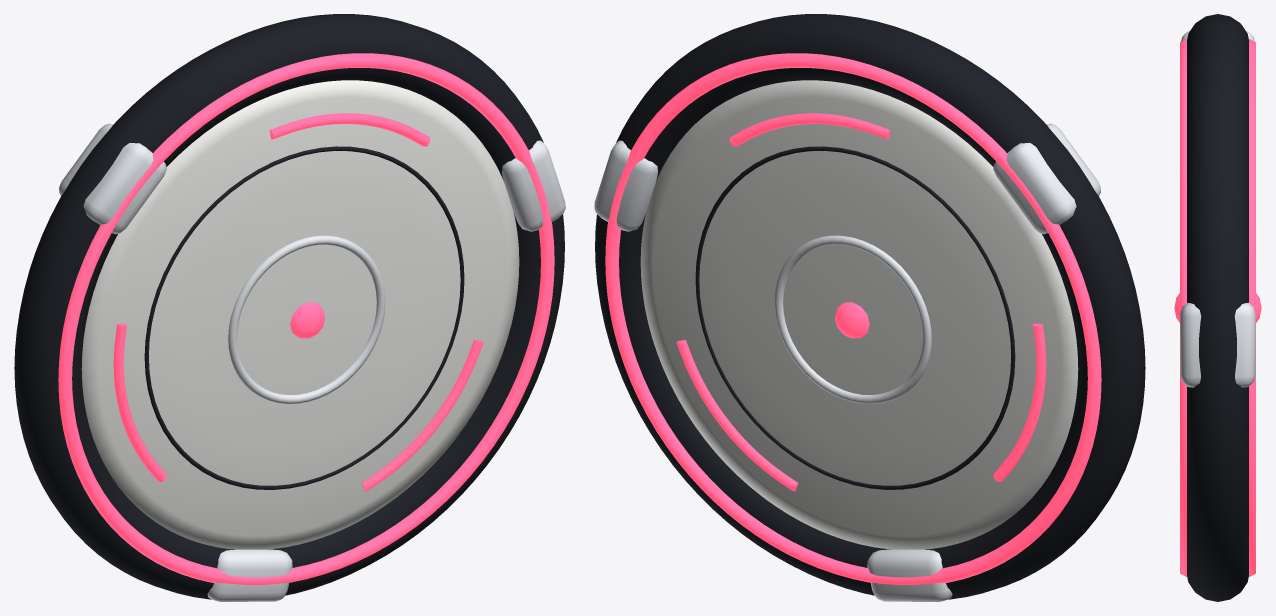
Rendered from disc.glb.
3 renders of one model, left to right at view 1: azimuth 30°, elevation 25°; view 2: azimuth 150°, elevation 25°; view 3: azimuth 270°, elevation 25°, orthographic. The views are drawn at different scales.
Visible parts, largest first — view 1: Shell, Rim, RimLight+1, Groove+1, Hub+1, Clamp1, Clamp2, Clamp0, Dash2+1, Dash1+1, Dash0+1, Dot+1; view 2: Shell, Rim, RimLight-1, Groove-1, Hub-1, Clamp1, Clamp2, Clamp0, Dash2-1, Dash1-1, Dash0-1, Dot-1; view 3: Rim, RimLight+1, RimLight-1, Clamp0.
Part boxes in pixels (bbox=[...]): Shell: bbox=[81, 80, 519, 549]; Rim: bbox=[14, 14, 564, 599]; RimLight+1: bbox=[58, 53, 554, 584]; Groove+1: bbox=[144, 146, 464, 489]; Hub+1: bbox=[228, 235, 385, 403]; Clamp1: bbox=[59, 123, 166, 234]; Clamp2: bbox=[207, 549, 292, 601]; Clamp0: bbox=[501, 140, 565, 231]; Dash2+1: bbox=[361, 339, 483, 491]; Dash1+1: bbox=[113, 323, 166, 481]; Dash0+1: bbox=[269, 113, 430, 146]; Dot+1: bbox=[290, 302, 325, 338]; Shell: bbox=[640, 80, 1078, 549]; Rim: bbox=[595, 14, 1145, 599]; RimLight-1: bbox=[605, 53, 1101, 584]; Groove-1: bbox=[695, 146, 1015, 489]; Hub-1: bbox=[774, 235, 931, 403]; Clamp1: bbox=[993, 123, 1100, 234]; Clamp2: bbox=[867, 549, 952, 601]; Clamp0: bbox=[594, 140, 658, 231]; Dash2-1: bbox=[676, 339, 798, 491]; Dash1-1: bbox=[993, 323, 1046, 481]; Dash0-1: bbox=[729, 113, 890, 146]; Dot-1: bbox=[834, 302, 869, 338]; Rim: bbox=[1187, 14, 1248, 601]; RimLight+1: bbox=[1180, 39, 1186, 576]; RimLight-1: bbox=[1249, 39, 1255, 576]; Clamp0: bbox=[1180, 302, 1255, 387].
Bounding box in the file's own units: 0.876 × 0.876 × 0.13.
